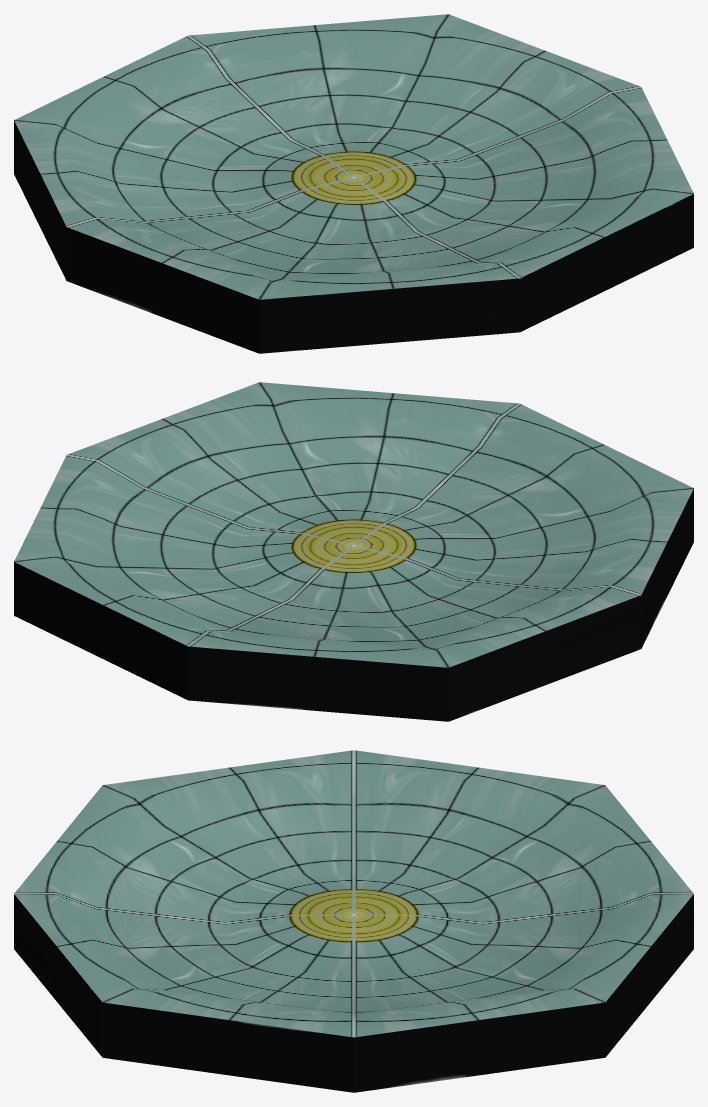
The model's file is checkPoint.fbx.
3 views of the same model, one above another, from view 1: azimuth 30°, elevation 25°; view 2: azimuth 150°, elevation 25°; view 3: azimuth 270°, elevation 25° (orthographic). The views are drawn at different scales.
Visible parts, largest first — view 1: SpawnPad; view 2: SpawnPad; view 3: SpawnPad.
Boxes of the visible parts, bbox=[...] form: SpawnPad: bbox=[14, 14, 693, 353]; SpawnPad: bbox=[14, 382, 693, 721]; SpawnPad: bbox=[14, 750, 693, 1092].
Size of the model in its own units: 2 by 0.1849 by 2.
